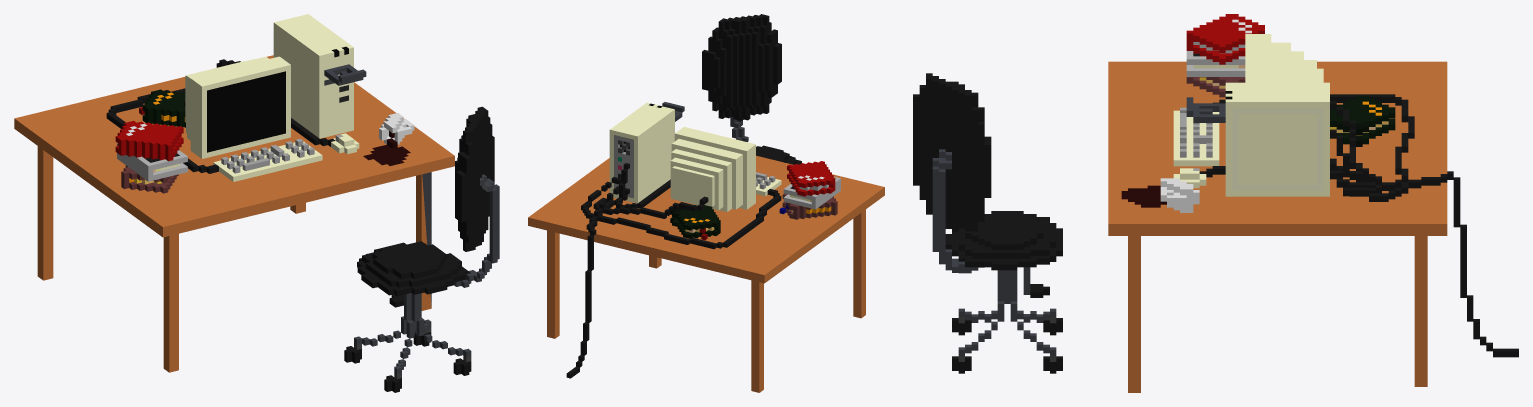
File: computer.glb
3 renders of one model, left to right at view 1: azimuth 30°, elevation 25°; view 2: azimuth 150°, elevation 25°; view 3: azimuth 270°, elevation 25°, orthographic. The views are drawn at different scales.
Visible parts, largest first — view 1: mesh_id5, mesh_id10, mesh_id7, mesh_id6; view 2: mesh_id5, mesh_id10; view 3: mesh_id5, mesh_id10.
Part boxes in pixels (<box>): mesh_id5: <box>14,14,494,392</box>; mesh_id10: <box>324,64,499,373</box>; mesh_id7: <box>207,71,285,152</box>; mesh_id6: <box>212,89,246,140</box>; mesh_id5: <box>528,14,884,392</box>; mesh_id10: <box>662,102,748,141</box>; mesh_id5: <box>913,14,1518,392</box>; mesh_id10: <box>932,97,1225,355</box>.
Bounding box in the file's own units: 0.512 × 0.4252 × 0.8071.
Materials: 6 (6 with a texture image).
